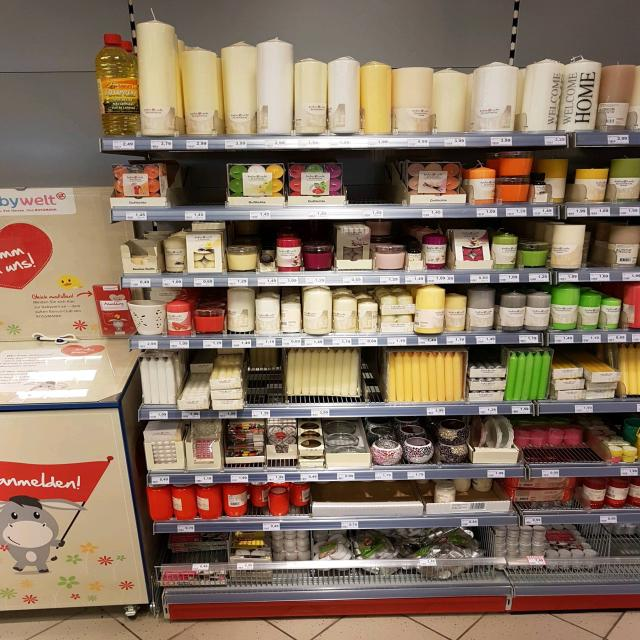void: (171, 152, 220, 222), (352, 153, 394, 220), (342, 484, 376, 530), (316, 480, 342, 530), (375, 485, 405, 528), (405, 485, 433, 526)
